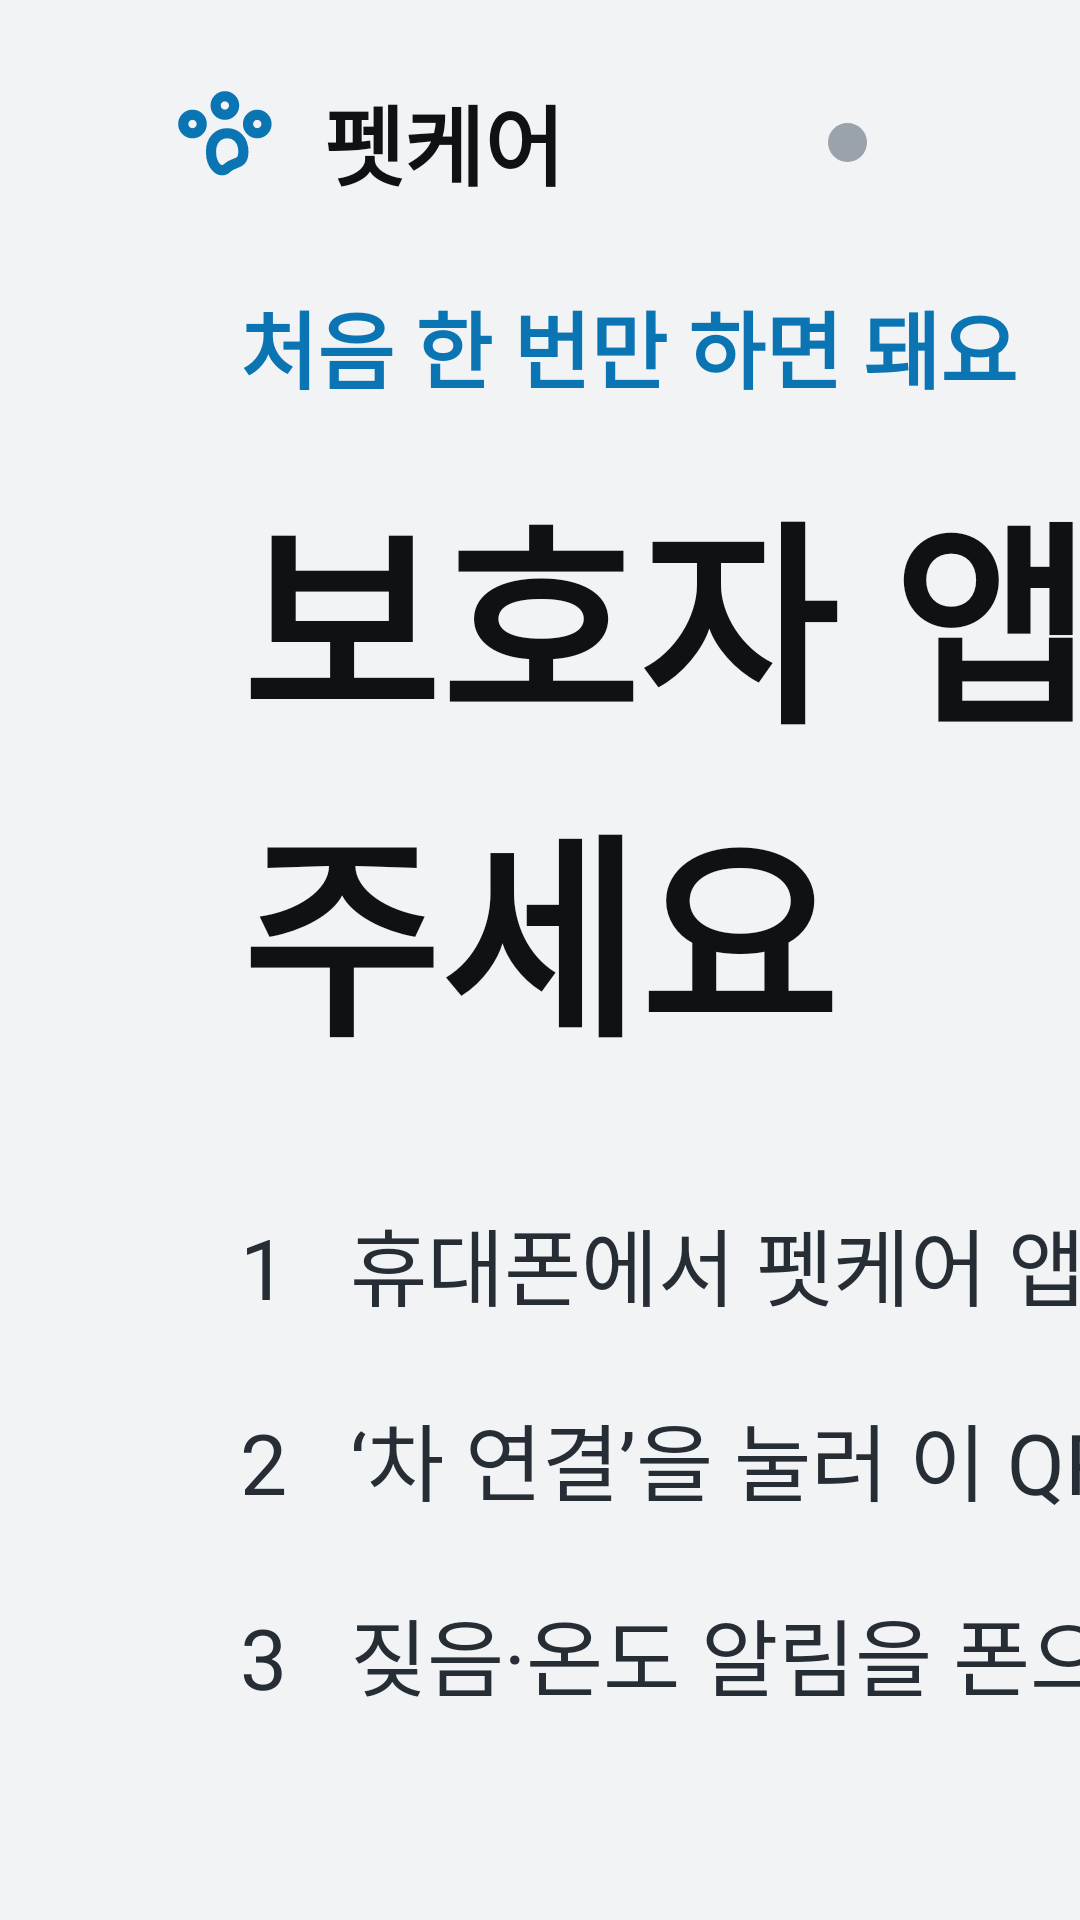

Named icons in this screenshot (1080×1920) and their bounding boxes, (x1,y1,x2,y2):
paw: (178,91,272,176)
